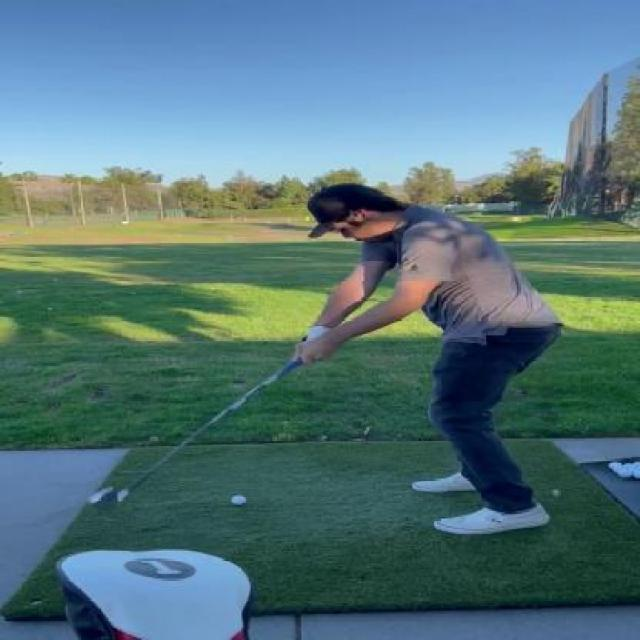club head: (83, 483, 132, 520)
